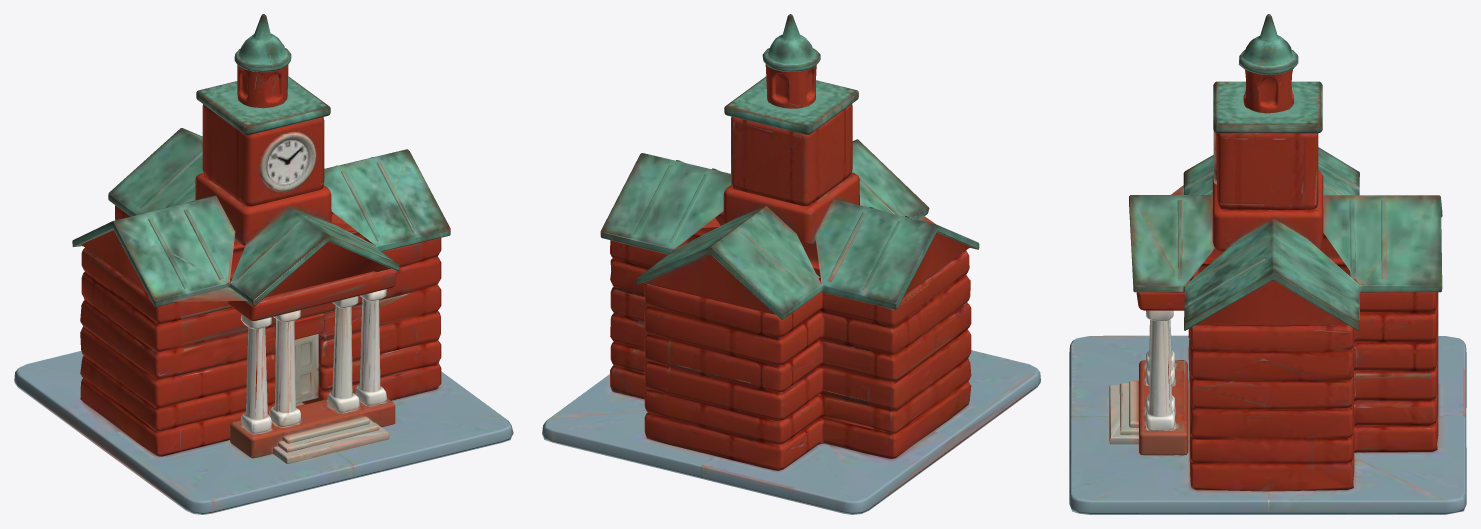
The model's file is bld-townhall.glb.
3 views of the same model, side by side, from view 1: azimuth 30°, elevation 25°; view 2: azimuth 150°, elevation 25°; view 3: azimuth 270°, elevation 25° (orthographic). The views are drawn at different scales.
Size of the model in its own units: 0.8563 by 1 by 0.8614.
1 material, 1 textured.
